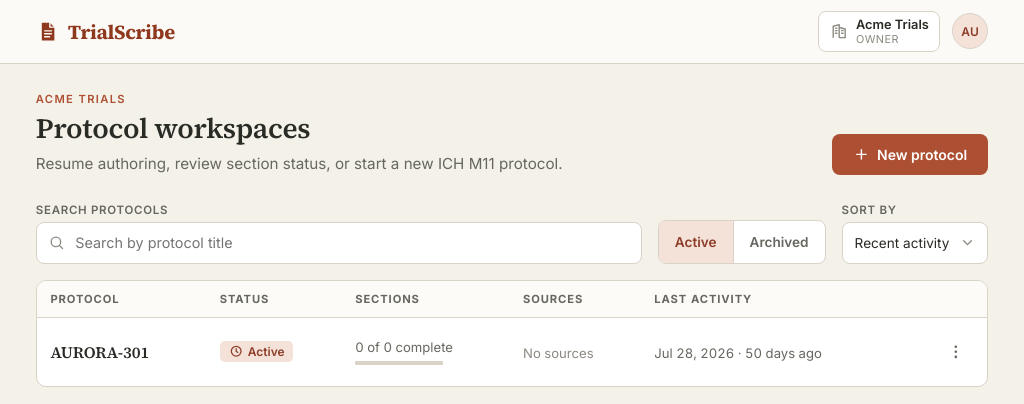
Test: ProtocolLibraryPage › requests archived protocols from the filter
Expected: the link "AURORA-301" is shown, [50,341,149,363]
Click the button "Archived". click: click(778, 242)
box: [732,221,824,262]
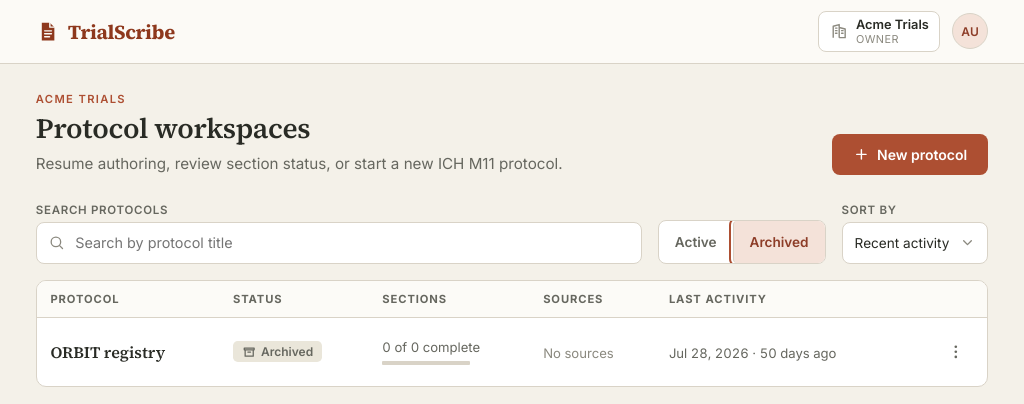
Result: the link "ORBIT registry" is shown at [50,341,165,363]
